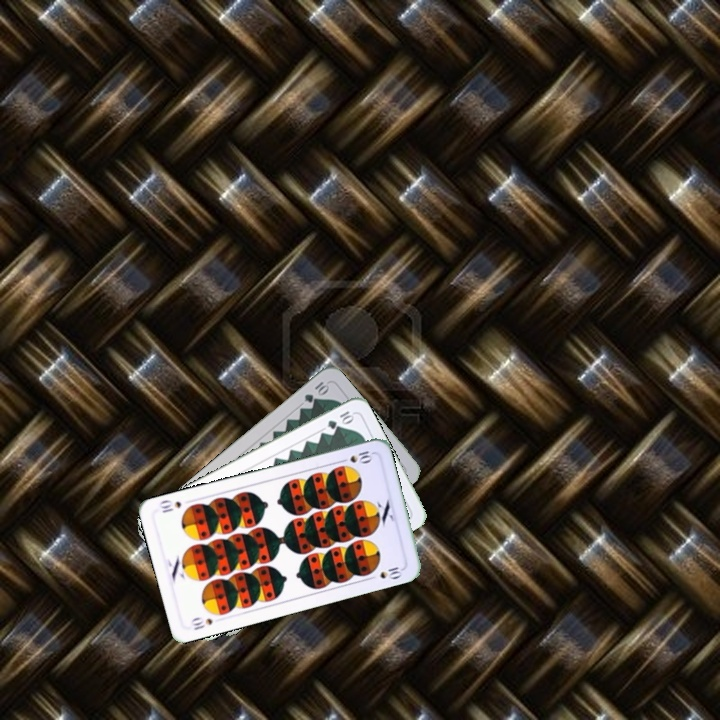G10: (300, 377, 332, 405), (323, 407, 356, 432)
S10: (335, 447, 375, 466), (187, 613, 215, 633)
